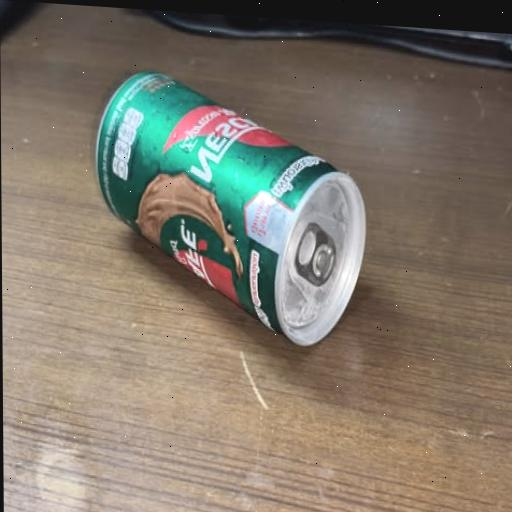canned: (79, 47, 387, 380)
